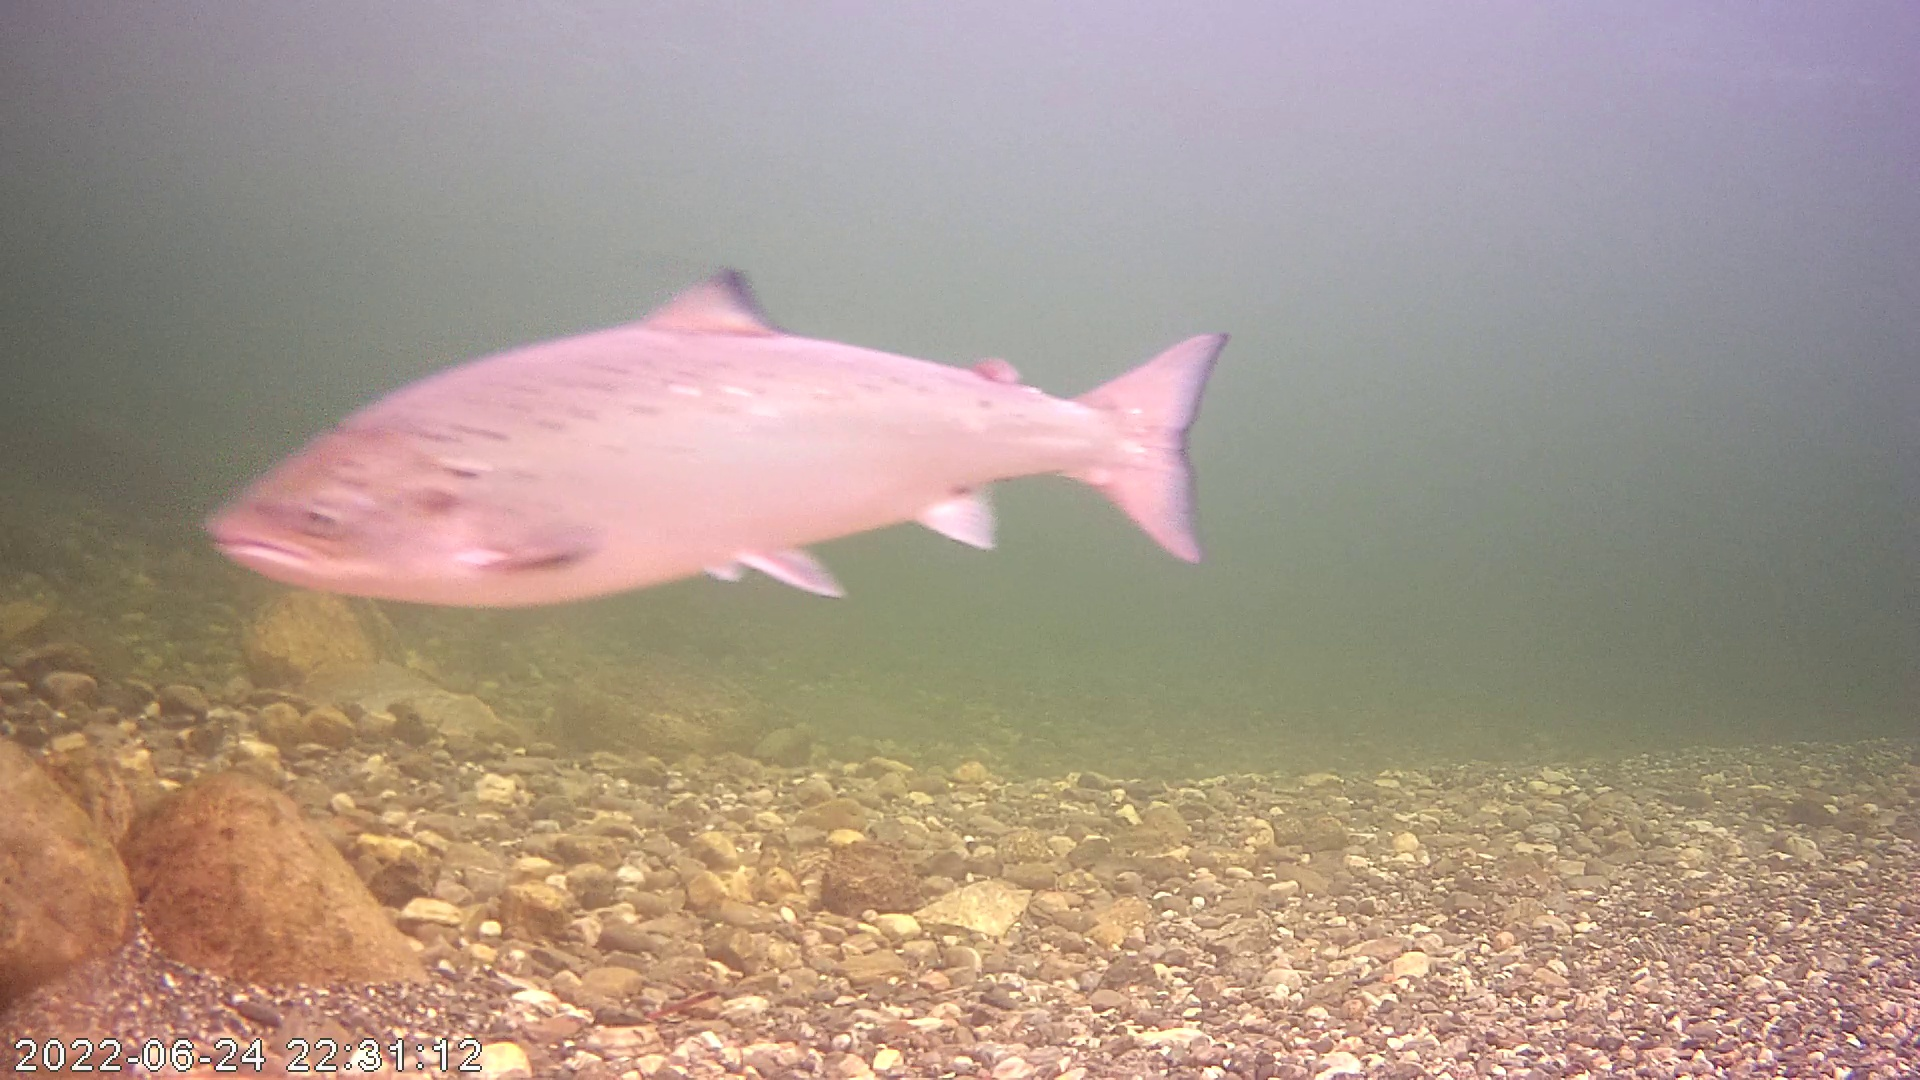salmon: (196, 262, 1236, 613)
